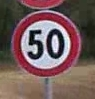limite 50: (10, 10, 82, 77)
